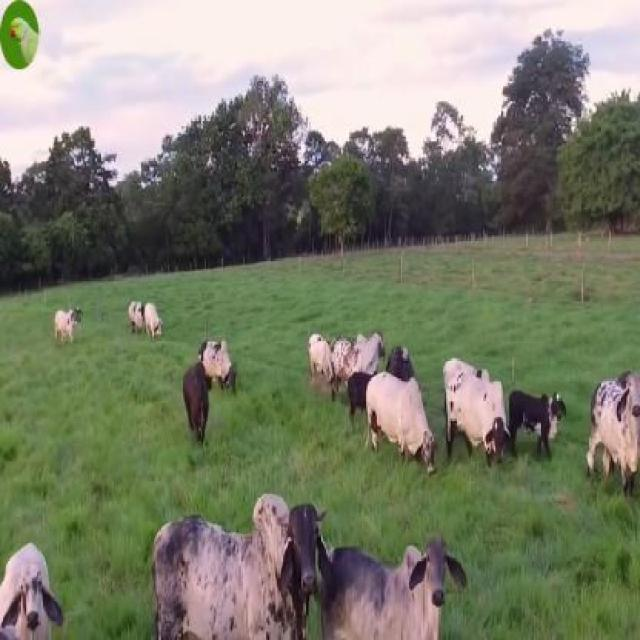Cow: (368, 372, 435, 472), (508, 392, 566, 462)
